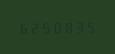eight: (61, 19, 71, 33)
five: (39, 20, 49, 34), (83, 19, 93, 33)
six: (17, 20, 27, 34)
three: (72, 19, 82, 33)
two: (28, 20, 38, 34)
zero: (50, 20, 60, 33)
